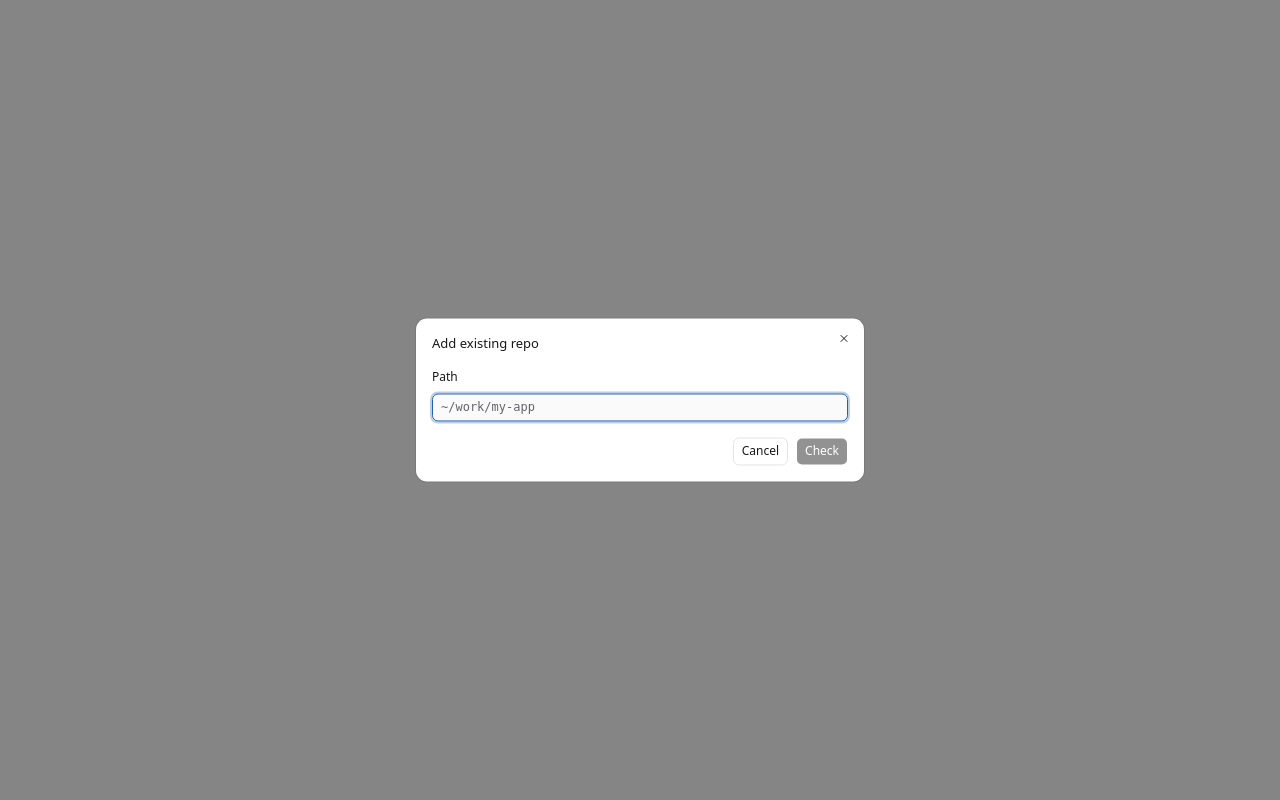
Scenario: AddExistingDialog › warns when the repo is not yet known to remodeck
Type "~/x" into the field labelled "Path".
click(640, 408); type("~/x")  # box [432, 394, 848, 422]
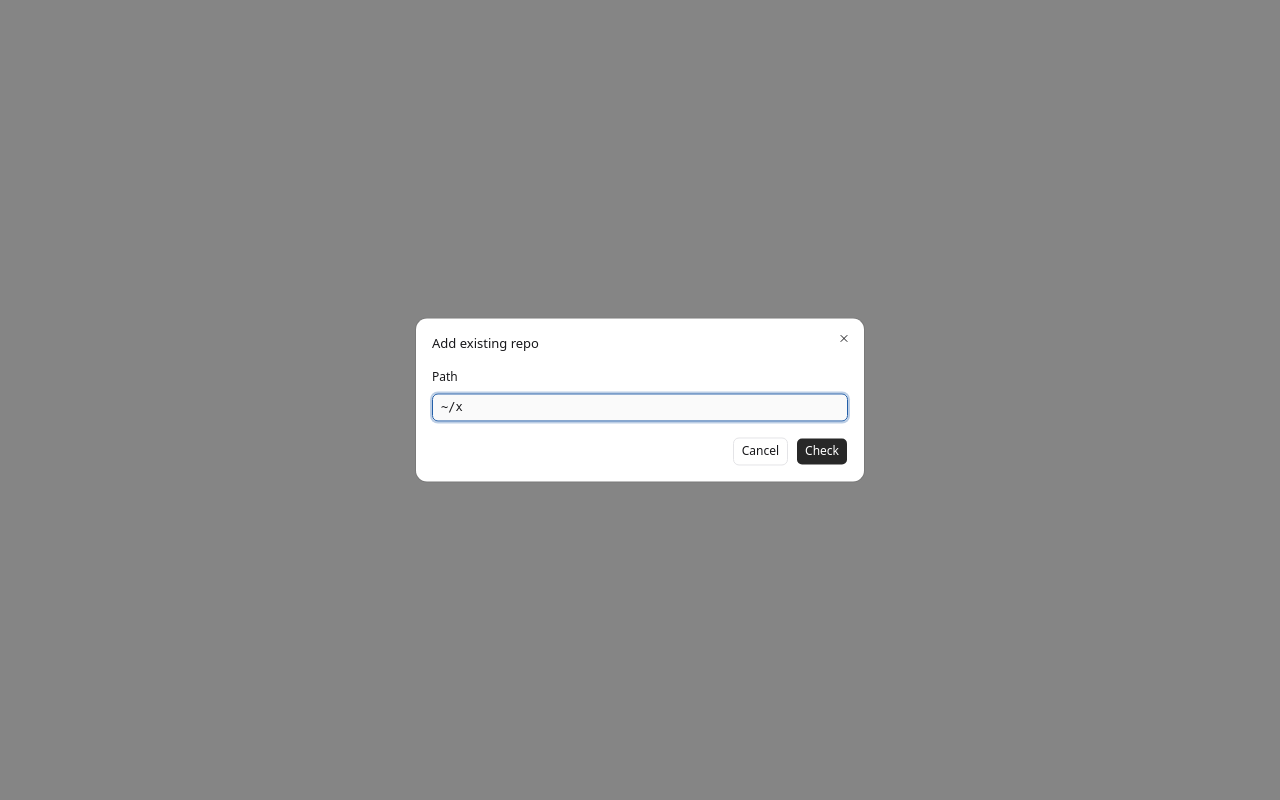
Click the button "Check".
click(822, 452)  # box [796, 438, 848, 466]
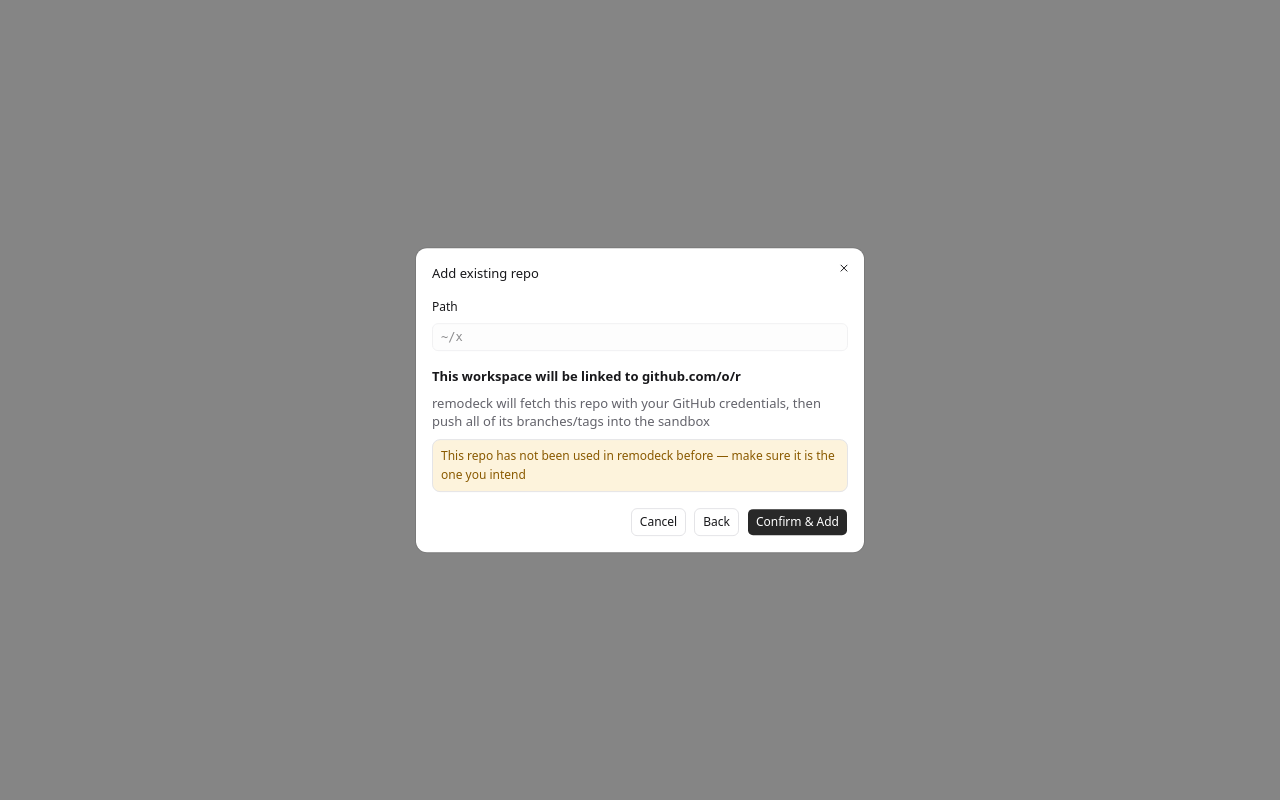
Expected: the button "Confirm & Add" is shown, [747, 508, 848, 536]
Expected: the text "This repo has not been used in remodeck before — make sure it is the one you intend" is shown, [441, 447, 835, 483]
